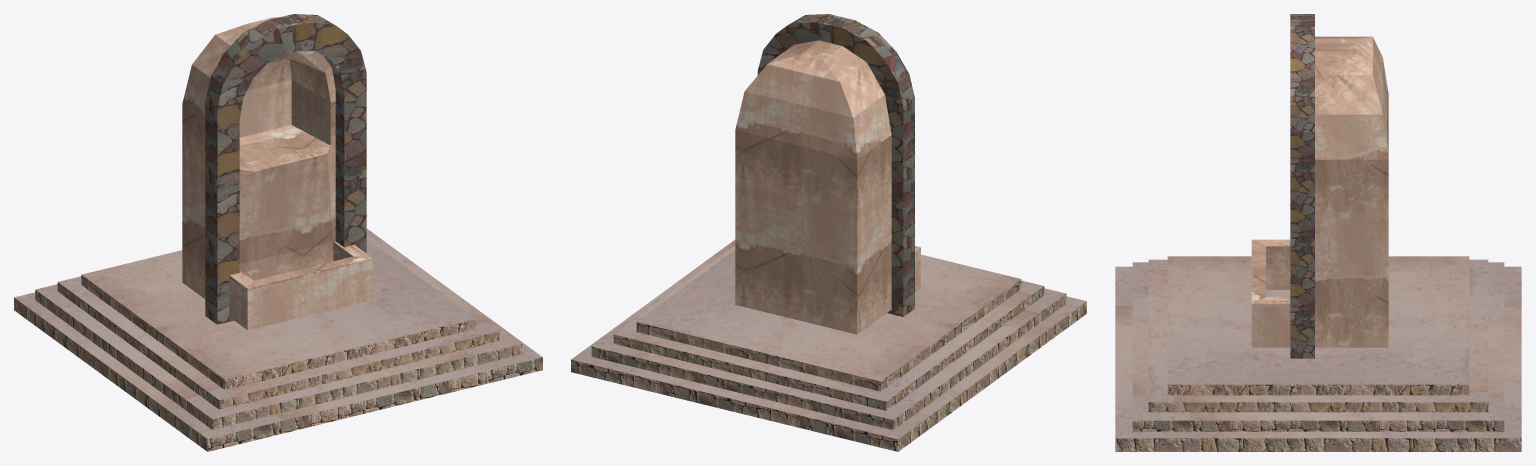
Rendered from Santuario.fbx.
3 views of the same model, side by side, from view 1: azimuth 30°, elevation 25°; view 2: azimuth 150°, elevation 25°; view 3: azimuth 270°, elevation 25° (orthographic). The views are drawn at different scales.
Visible parts, largest first — view 1: escalera, Cube, arco2; view 2: escalera, Cube, arco2; view 3: escalera, Cube, arco2.
Part boxes in pixels (box(x1,y1,x2,y2)): escalera: box(14, 228, 542, 451); Cube: box(182, 17, 372, 330); arco2: box(205, 14, 366, 324); escalera: box(571, 239, 1086, 451); Cube: box(735, 40, 920, 334); arco2: box(757, 14, 914, 316); escalera: box(1115, 256, 1521, 451); Cube: box(1251, 36, 1388, 347); arco2: box(1290, 14, 1314, 358).
Size of the model in its own units: 5.78 by 5.78 by 5.34.
4 materials, 4 textured.
